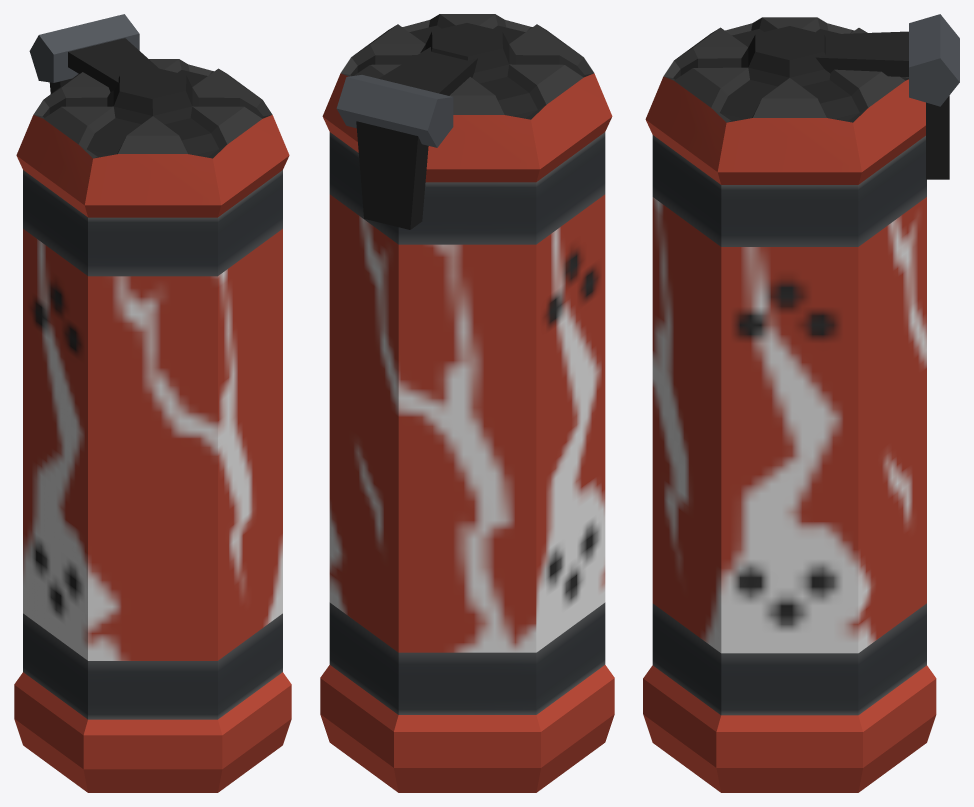
Rendered from SM_Prop_Drink_01.fbx.
3 views of the same model, side by side, from view 1: azimuth 30°, elevation 25°; view 2: azimuth 150°, elevation 25°; view 3: azimuth 270°, elevation 25° (orthographic). The views are drawn at different scales.
Visible parts, largest first — view 1: SM_Prop_Drink_01; view 2: SM_Prop_Drink_01; view 3: SM_Prop_Drink_01.
Boxes of the visible parts, <box> form: SM_Prop_Drink_01: <box>14,14,291,792</box>; SM_Prop_Drink_01: <box>320,14,614,792</box>; SM_Prop_Drink_01: <box>643,14,959,792</box>.
Bounding box in the file's own units: 9.02 × 27.69 × 11.25.
